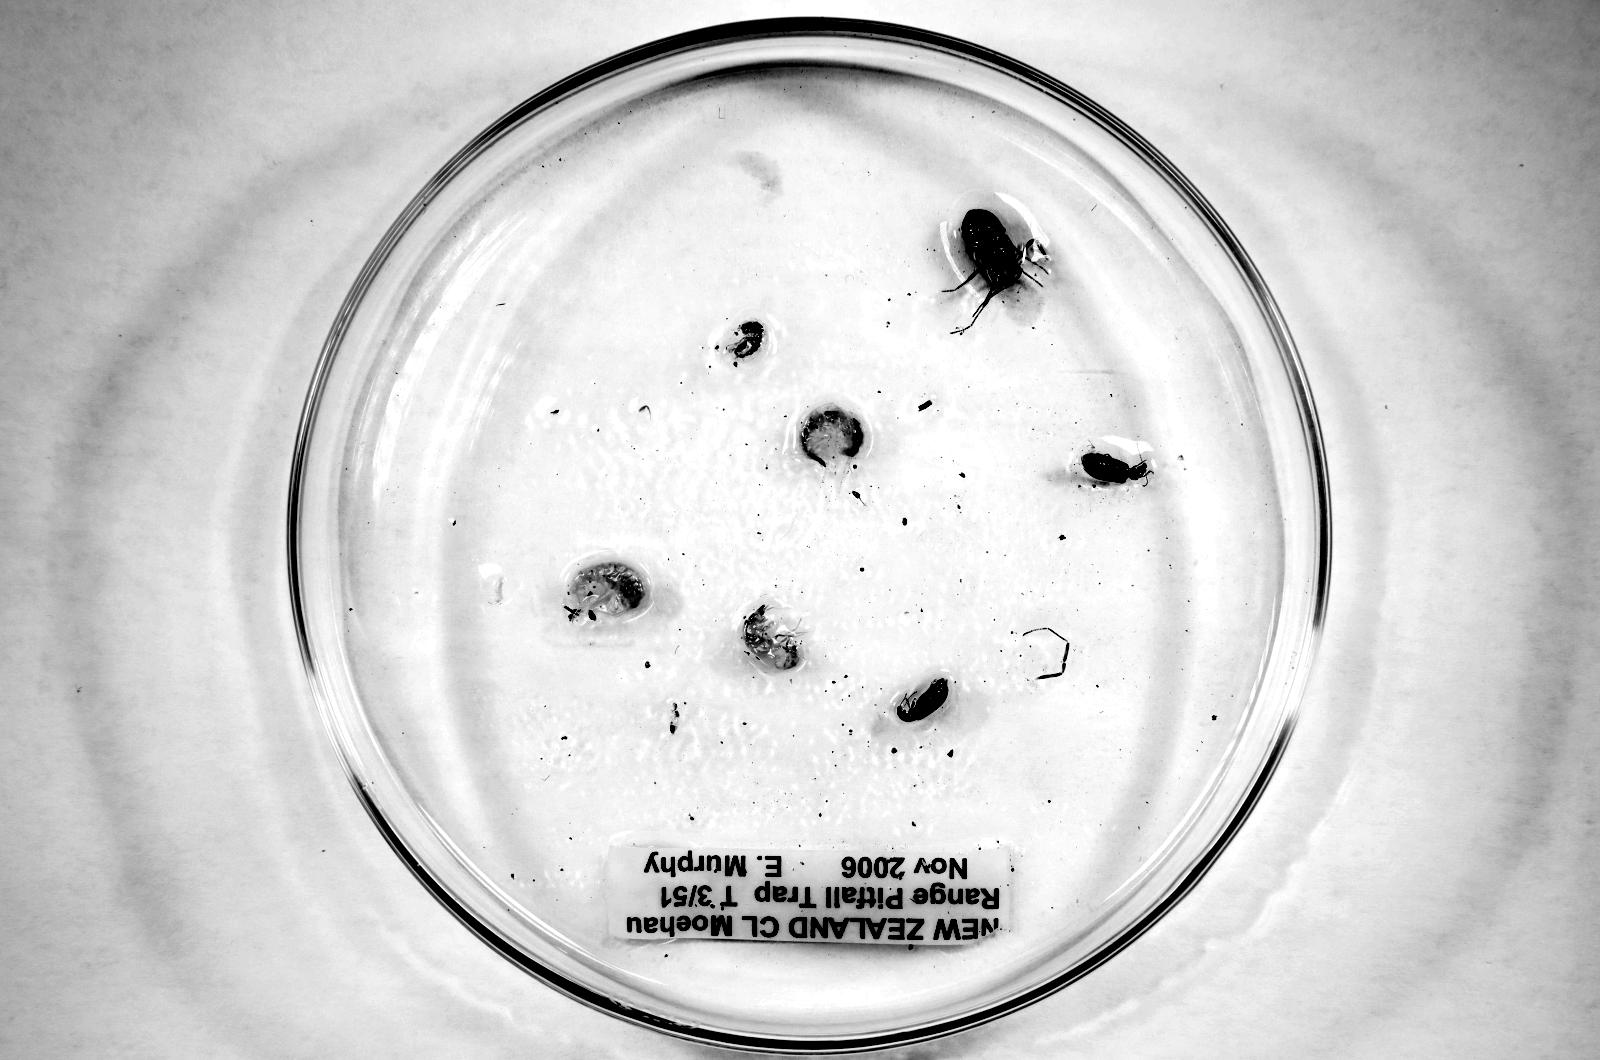amphipoda: (568, 562, 647, 619), (798, 405, 863, 466), (743, 605, 800, 670)
coleoptera: (896, 678, 948, 721), (1081, 452, 1148, 483)
opiliones: (944, 210, 1049, 335)
